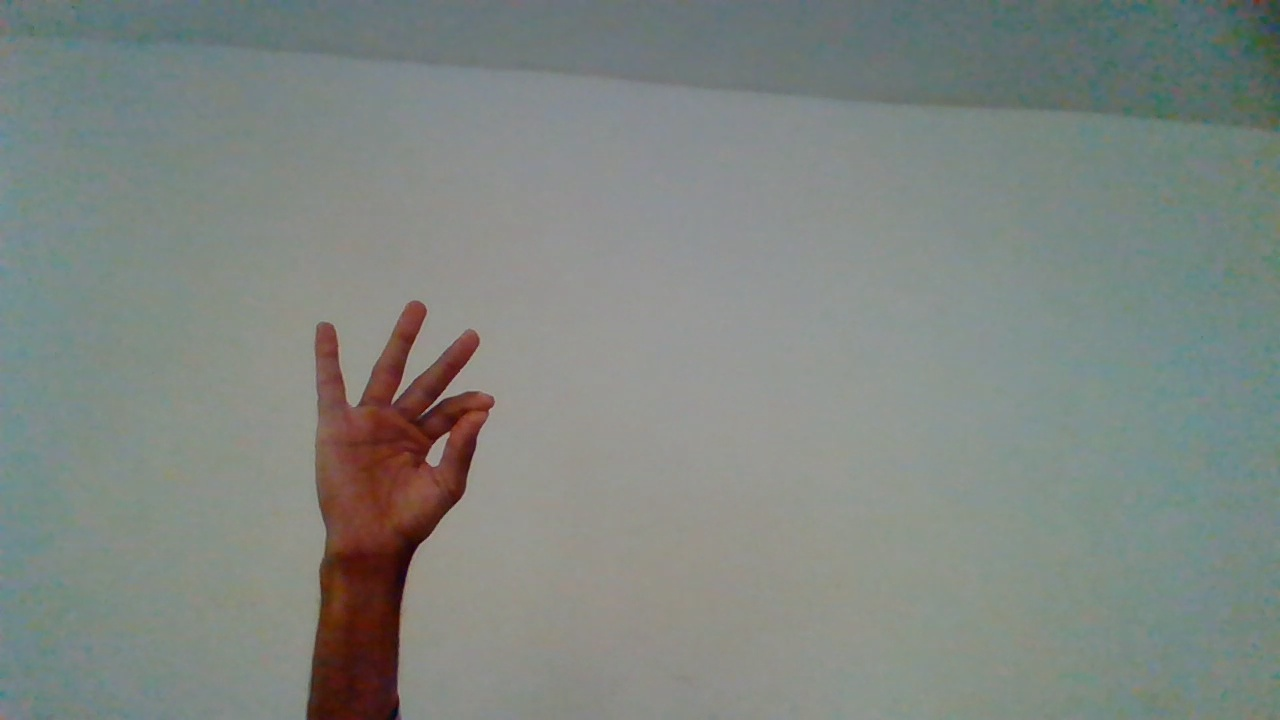le: (311, 300, 504, 699)
